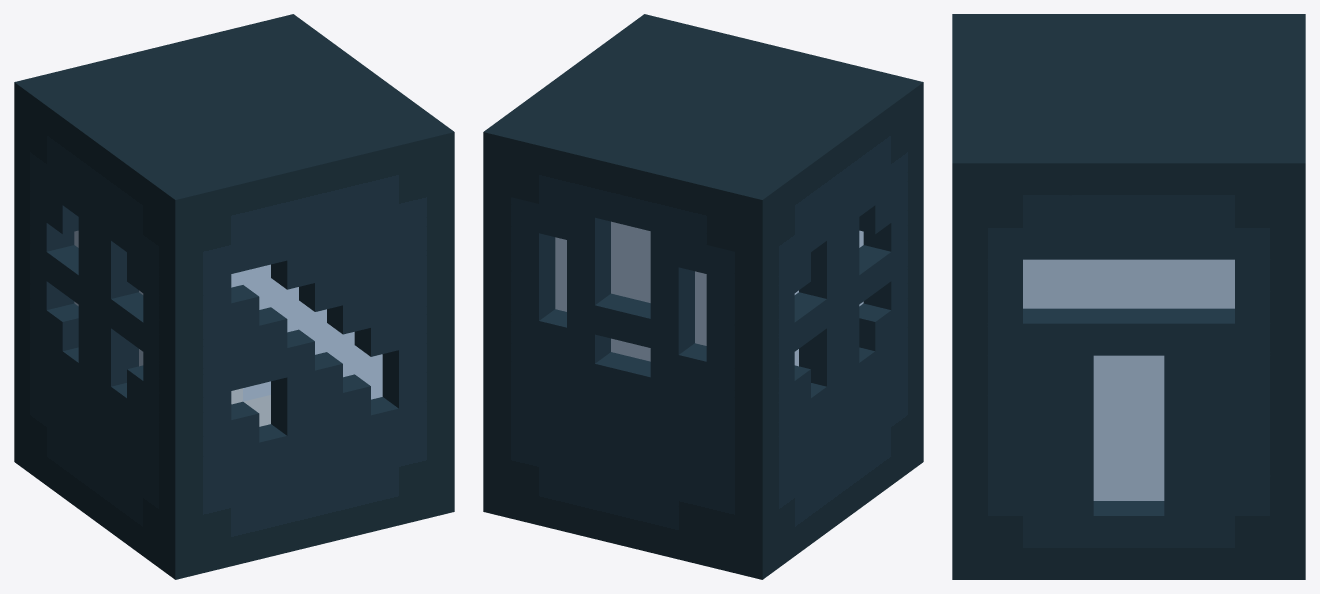
Rendered from artefact2.fbx.
3 renders of one model, left to right at view 1: azimuth 30°, elevation 25°; view 2: azimuth 150°, elevation 25°; view 3: azimuth 270°, elevation 25°, orthographic. The views are drawn at different scales.
Visible parts, largest first — view 1: artifact2; view 2: artifact2; view 3: artifact2.
Boxes of the visible parts, <box> form: artifact2: <box>14,14,454,579</box>; artifact2: <box>483,14,923,579</box>; artifact2: <box>952,14,1305,579</box>.
Size of the model in its own units: 10 by 13 by 10.
Materials: 1 (1 with a texture image).
